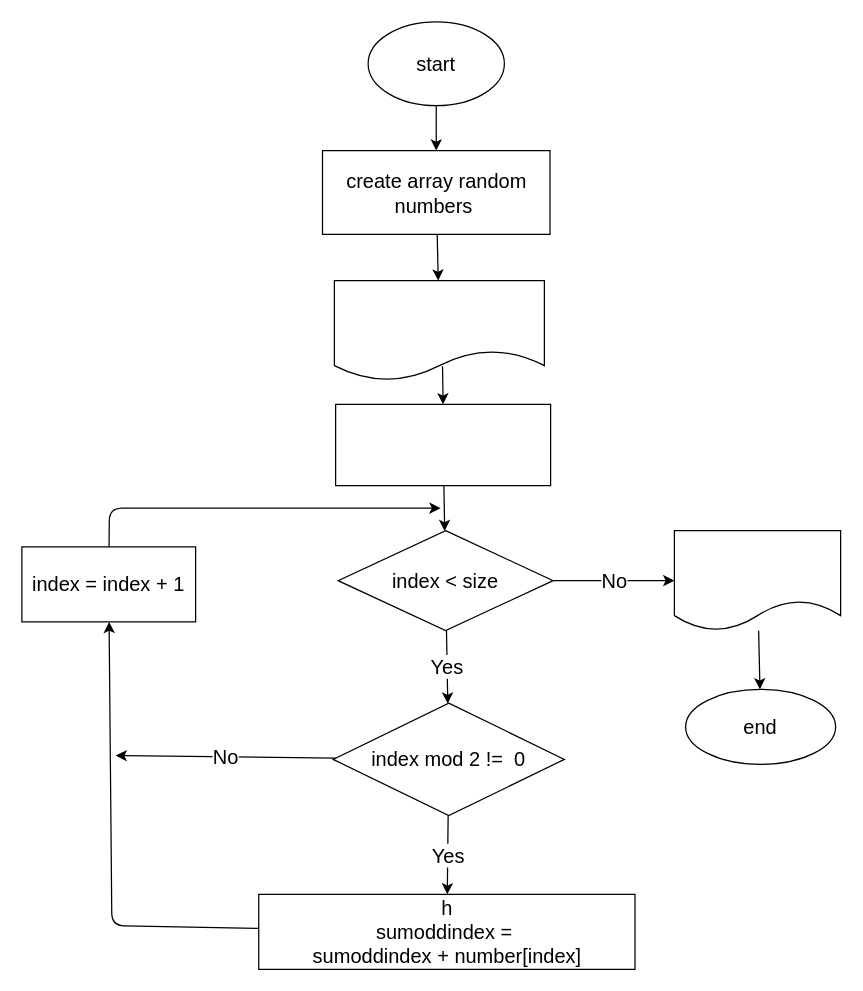
Image size: 863x991. Some labels were removed from this diagram. Each missing label, with the box of its shape:
index = 0 size = array length sumoddindex = 0: (334, 403, 551, 486)
print array: (333, 279, 544, 381)
print sumoddindex: (673, 529, 841, 631)
